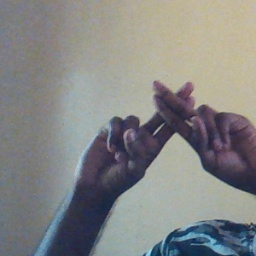F: (117, 65, 231, 165)
